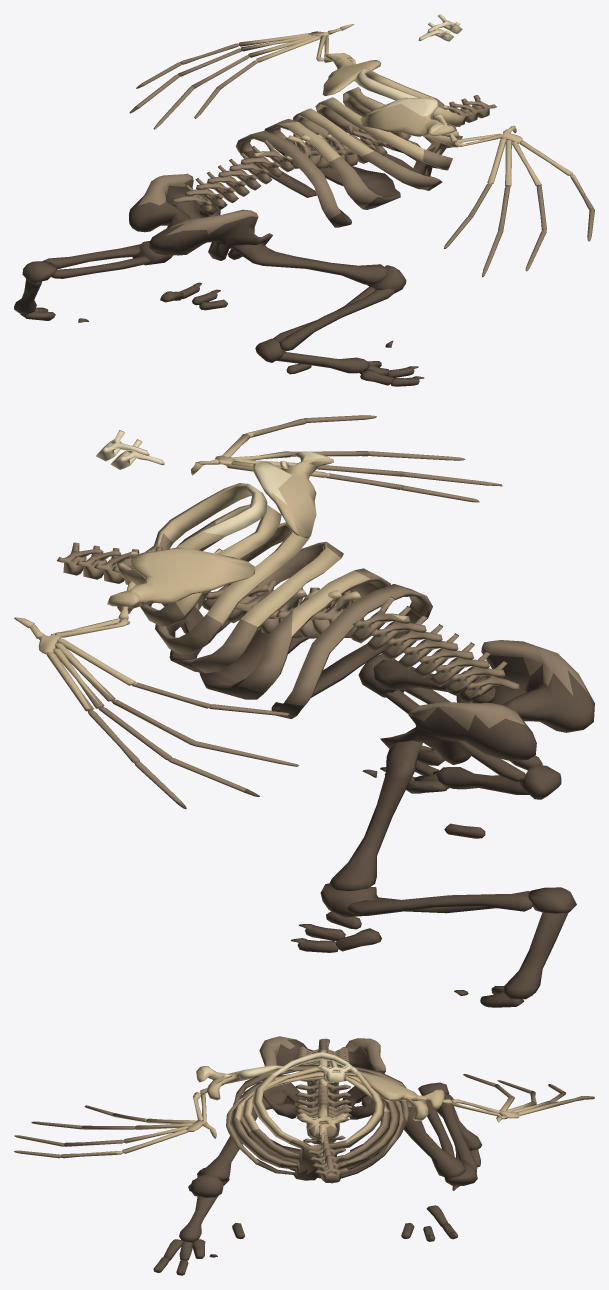
Rendered from dragon_bones.glb.
3 renders of one model, top to bottom at view 1: azimuth 30°, elevation 25°; view 2: azimuth 150°, elevation 25°; view 3: azimuth 270°, elevation 25°, orthographic. The views are drawn at different scales.
Visible parts, largest first — view 1: dragon_bones; view 2: dragon_bones; view 3: dragon_bones.
Boxes of the visible parts, bbox=[...] form: dragon_bones: bbox=[14, 14, 594, 386]; dragon_bones: bbox=[14, 415, 594, 1007]; dragon_bones: bbox=[14, 1036, 594, 1275].
Bounding box in the file's own units: 2.1 × 1.34 × 2.6.
